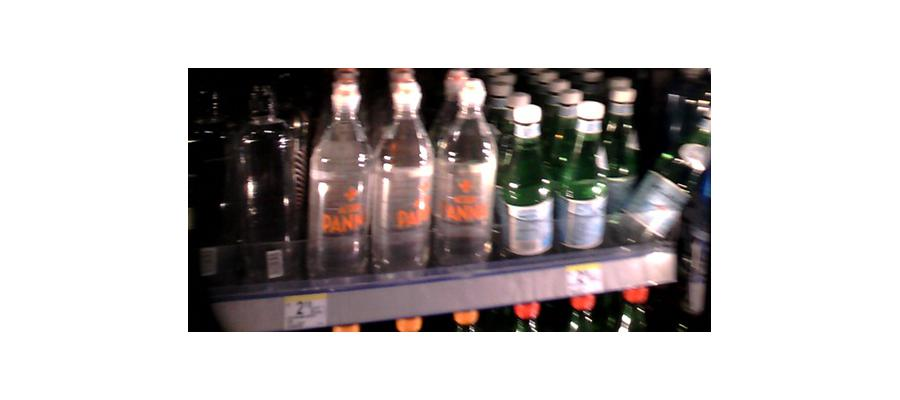bottle: (303, 77, 372, 281), (370, 81, 432, 279), (236, 99, 301, 285), (432, 80, 496, 268), (499, 102, 553, 264), (557, 98, 605, 253)
